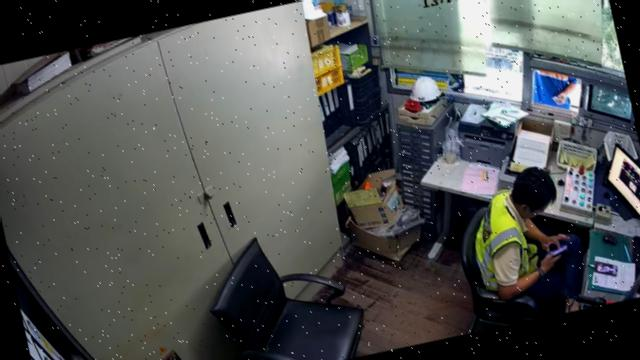Head: (510, 167, 556, 219)
People: (476, 168, 583, 315)
Phone: (593, 261, 617, 275), (545, 245, 568, 256)
